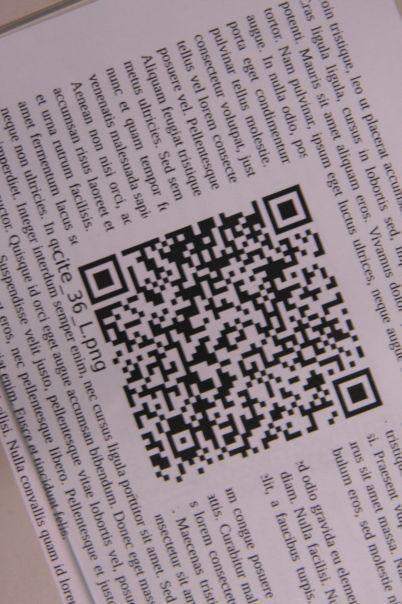qr_code: (77, 183, 384, 486)
